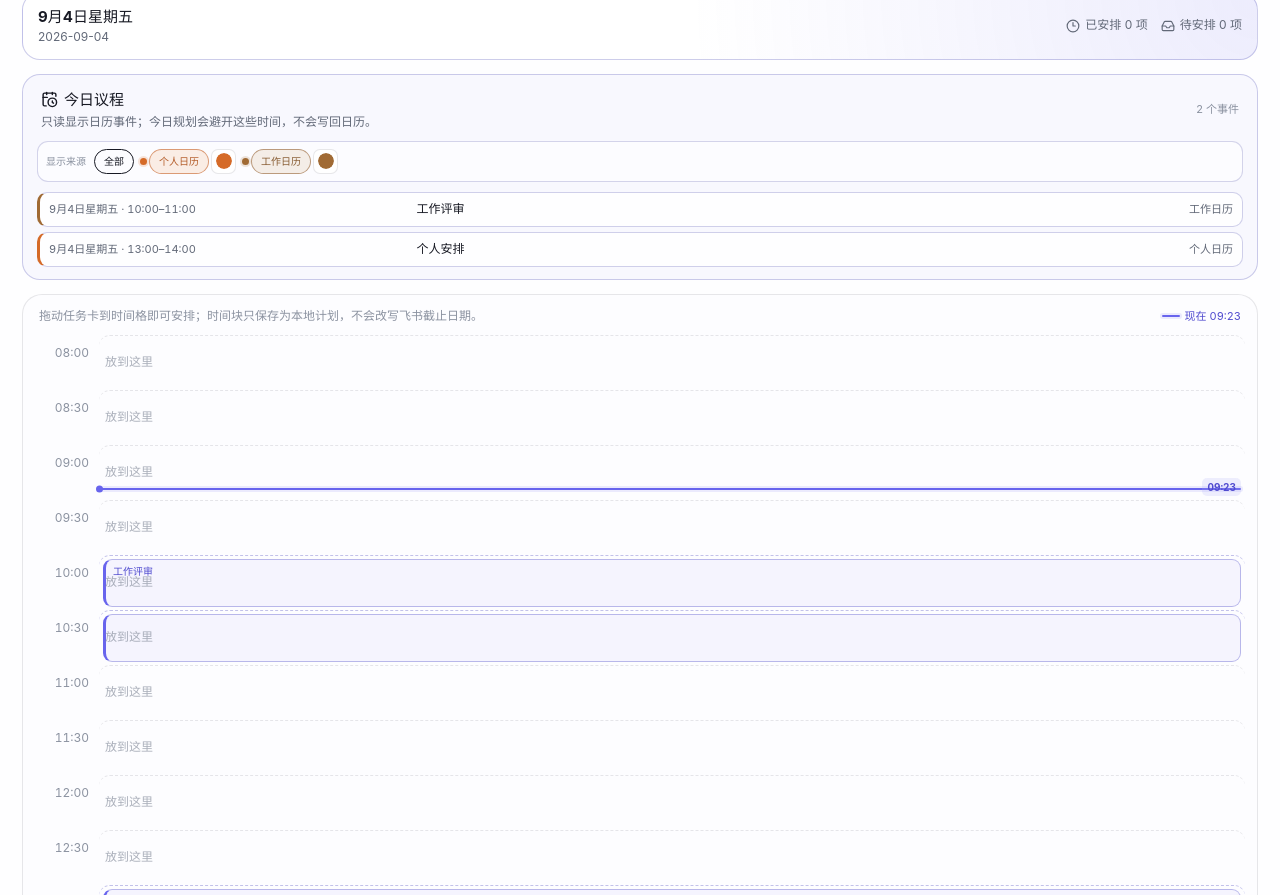
Test case: TimelinePage › filters multiple calendar sources without changing stored events
(page scrolled)
Check: the 1st text "工作评审" is shown, box [416,201,464,216]
Check: the 1st text "个人安排" is shown, box [416,241,464,256]
Step 1. Click the button "工作日历" → click(281, 162), box [251,149,311,174]
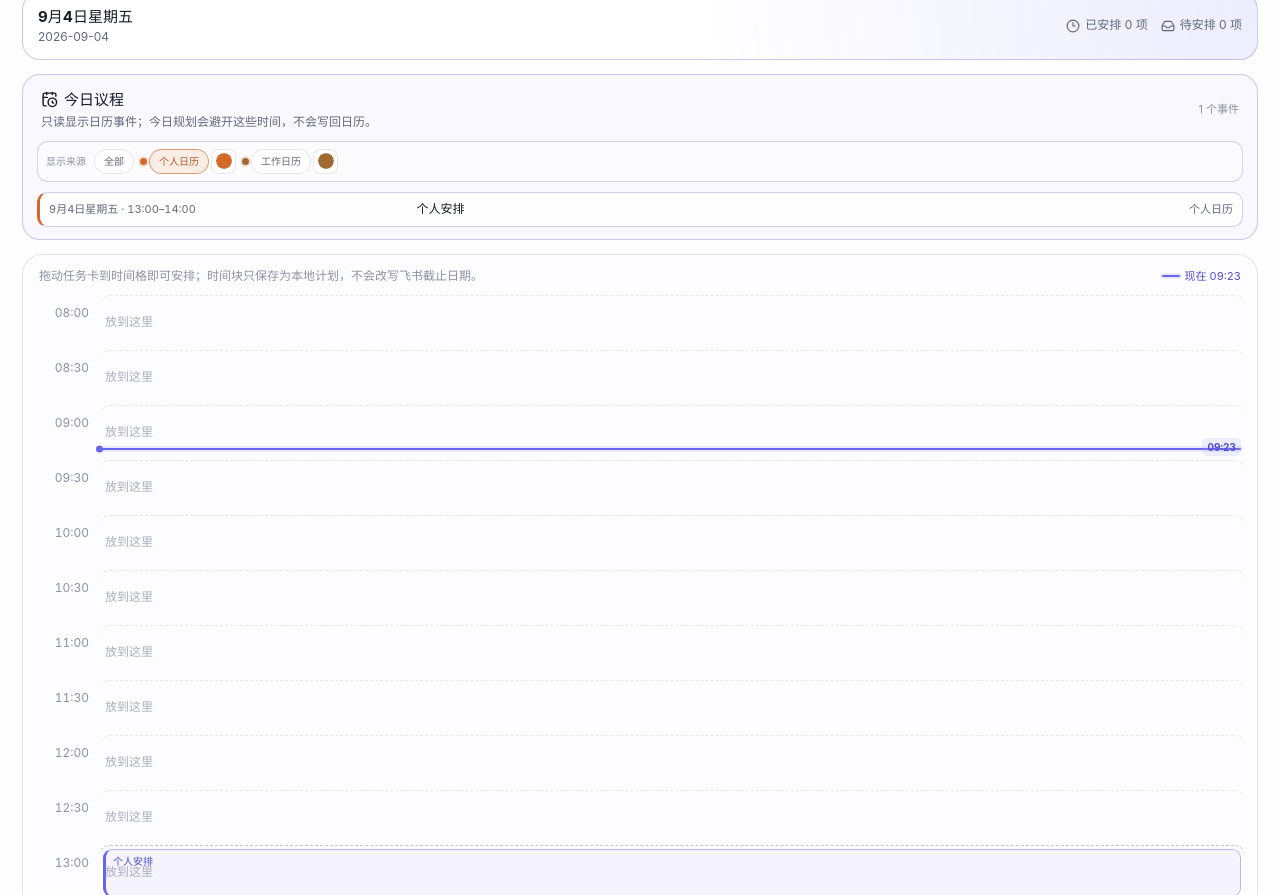
Check: the 1st text "个人安排" is shown, box [416,201,464,216]
Check: the text "工作评审" is gone
Step 2. Click the button "全部" → click(114, 162), box [94,149,134,174]
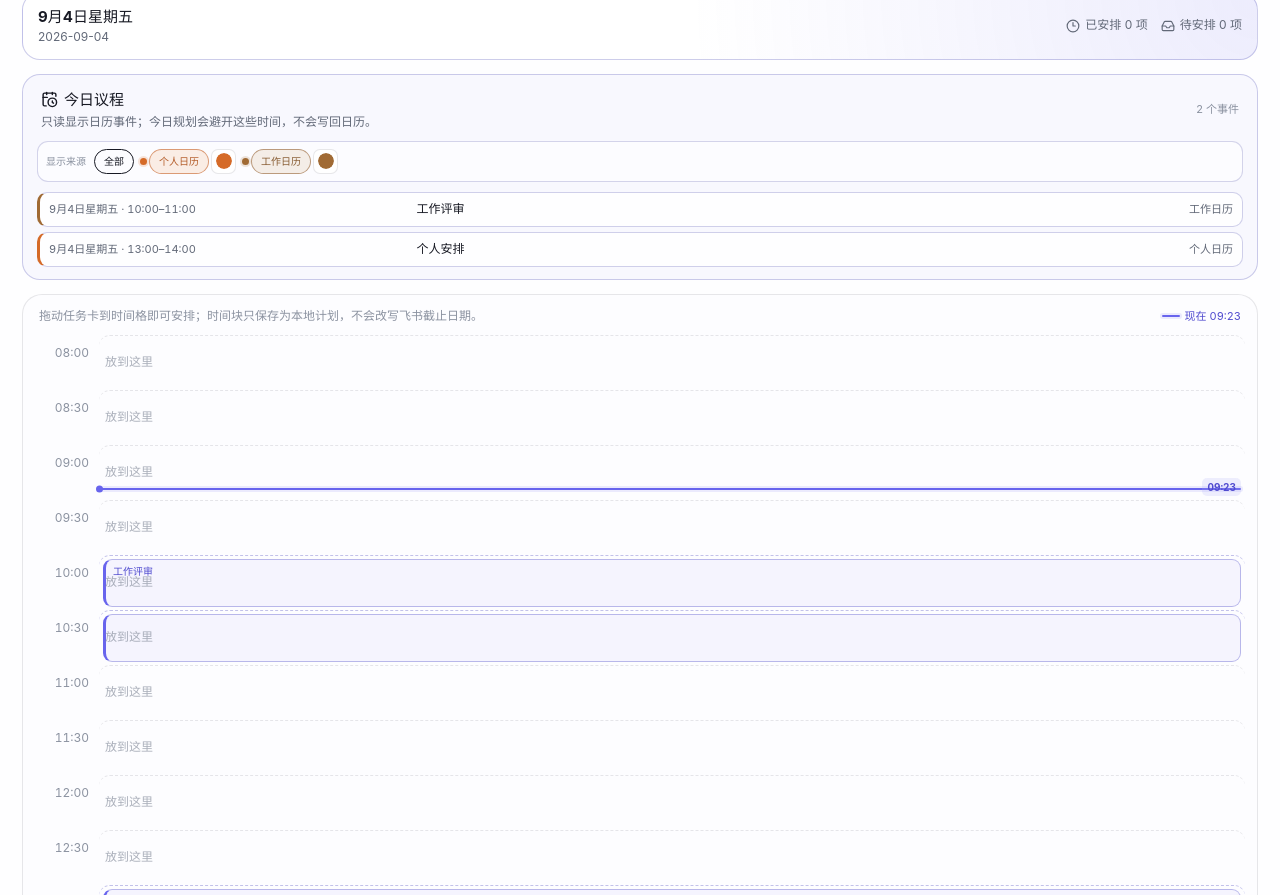
Check: the 1st text "工作评审" is shown, box [416,201,464,216]
